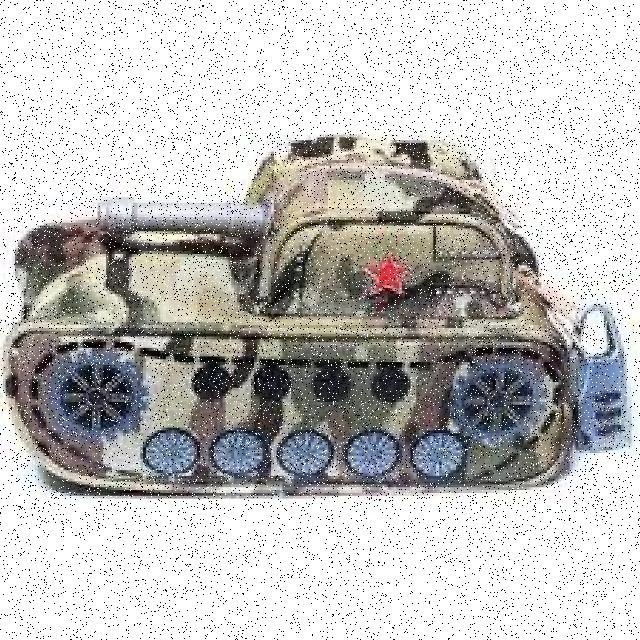MIL_MBT: (13, 131, 628, 513)
